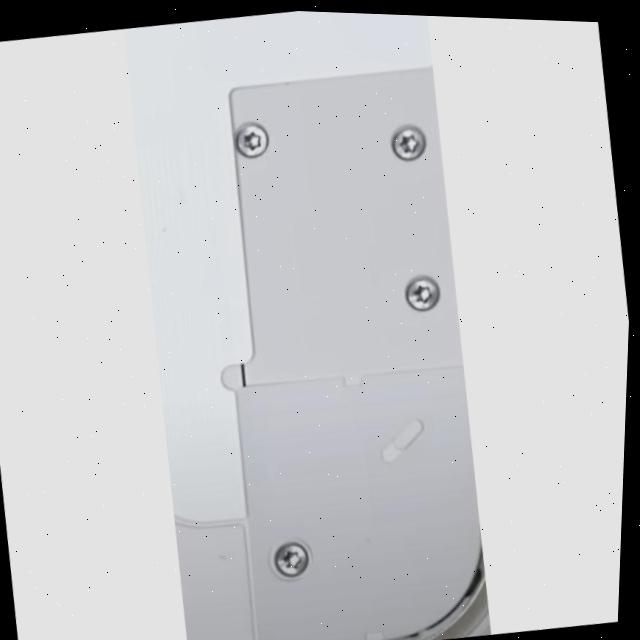Torx: (270, 538, 313, 582), (402, 272, 443, 314), (233, 119, 273, 161), (389, 122, 429, 163)
